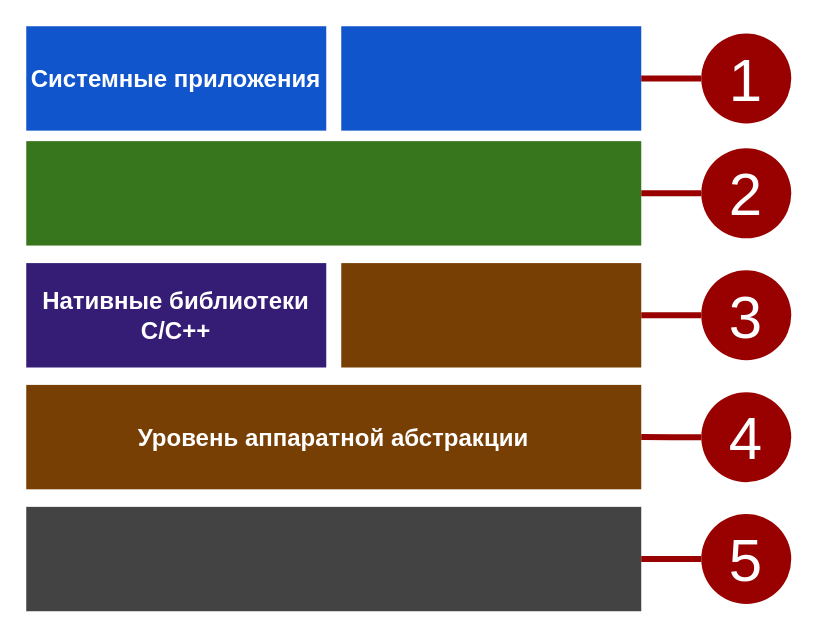
Some shapes in this 816 by 636 pixel diagram are drawn without their labels. The box of each missing label's shape, as (x1, y1, x2, y2) in pixels:
Cреда выполнения Android: (340, 262, 640, 367)
Пользовательские приложения: (340, 26, 640, 130)
Фреймворк Java API: (26, 140, 640, 245)
Ядро Linux: (26, 506, 640, 610)
